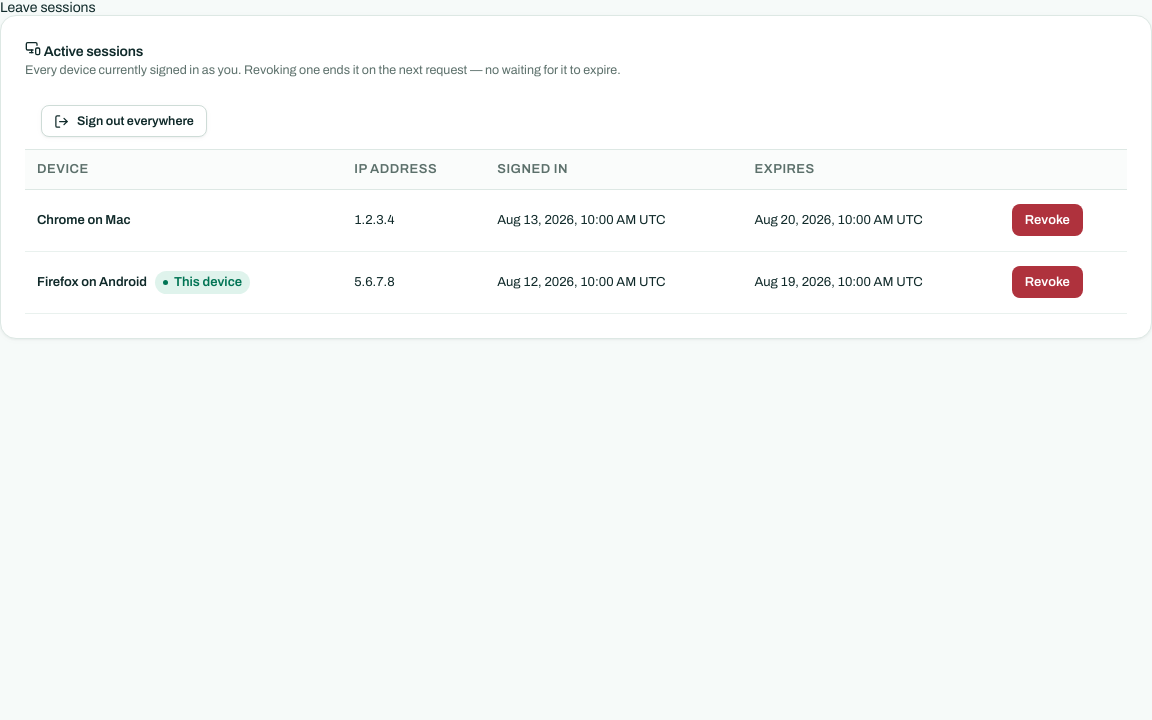
Test case: session mutation recovery › keeps the exact revoke locked when a check still sees the target
The image size is (1152, 720).
Click the button "Revoke" in the row of "Chrome on Mac": {"x": 1047, "y": 220} [1012, 204, 1083, 236]
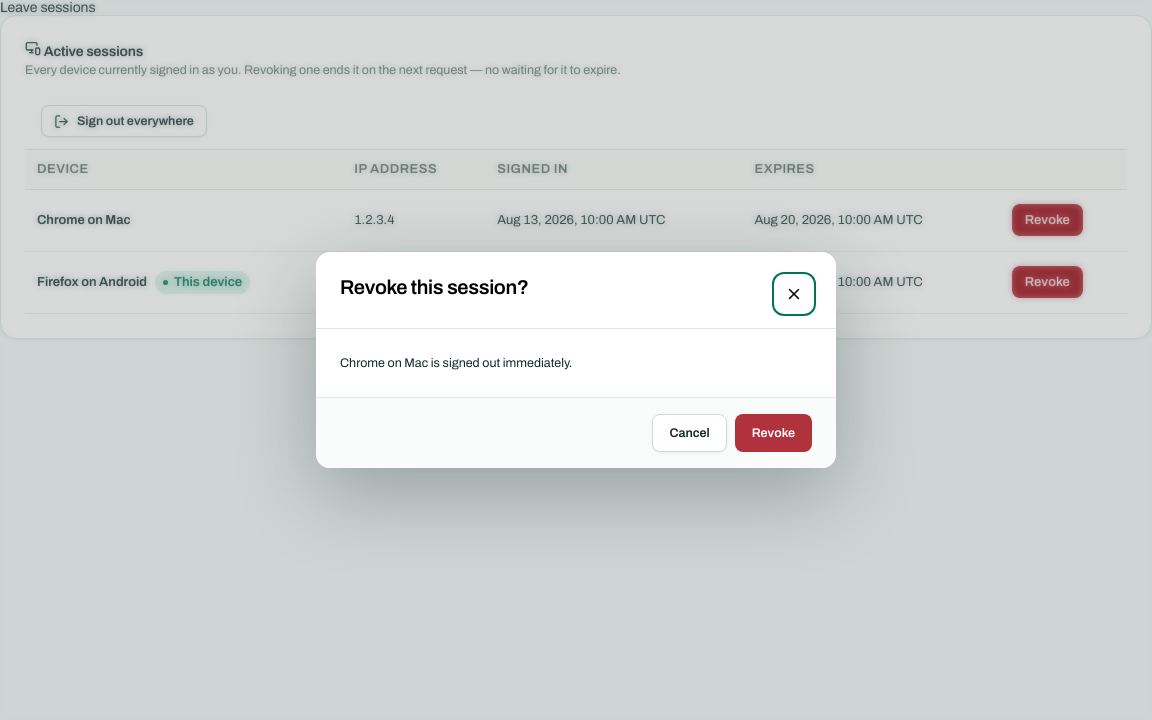
Click the button "Revoke": {"x": 773, "y": 433} [735, 414, 812, 452]
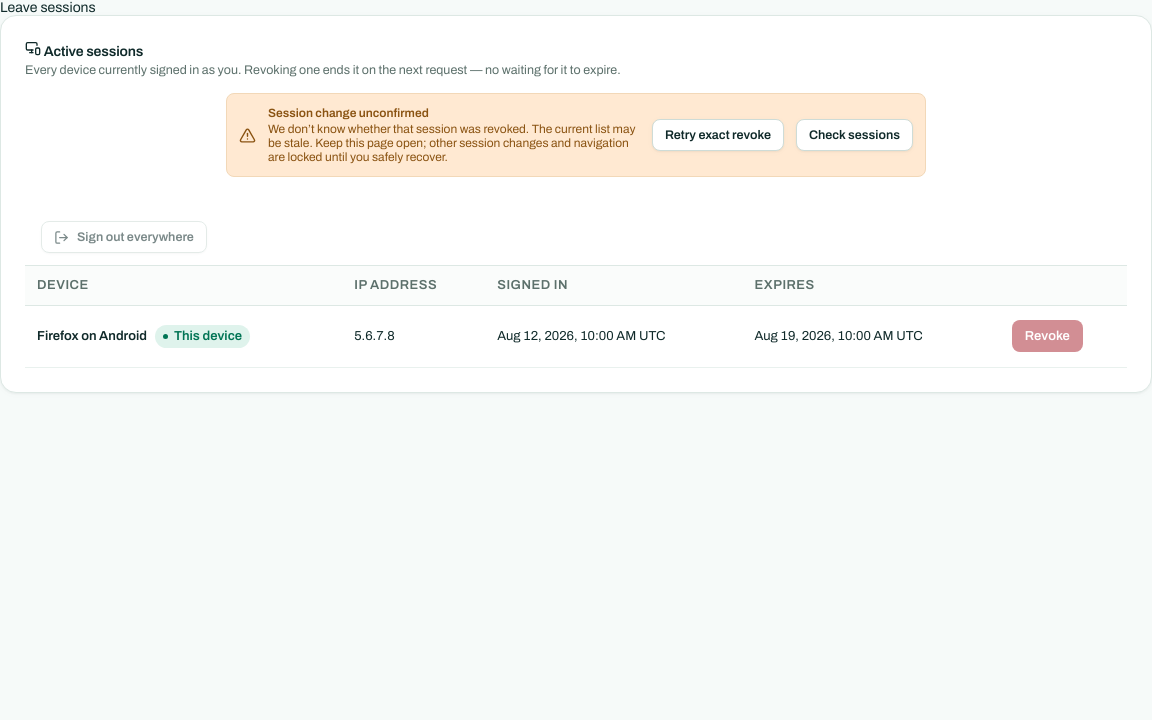
Click the button "Check sessions": {"x": 854, "y": 135} [796, 119, 913, 151]
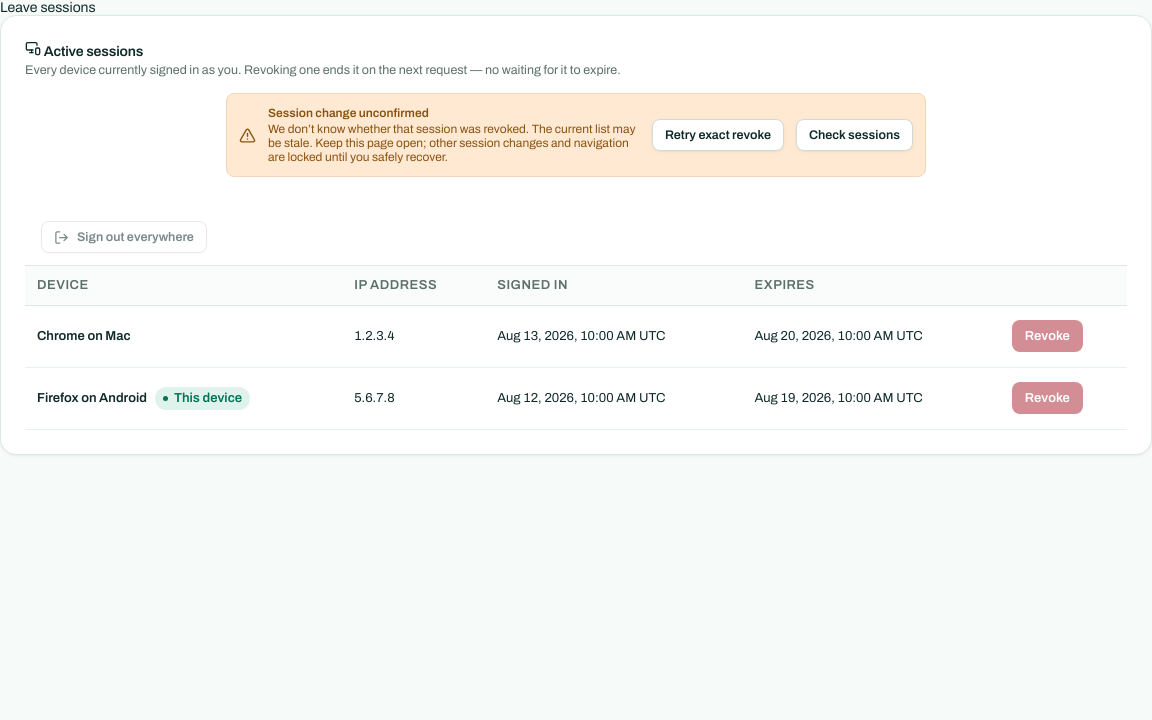
Expected: the text "Session change unconfirmed" is shown, [268, 106, 429, 120]
Expected: the button "Retry exact revoke" is shown, [652, 119, 784, 151]
Expected: the text "Chrome on Mac" is shown, [37, 329, 131, 343]
